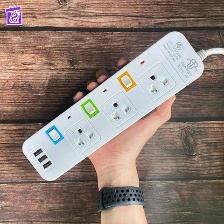three_eye_plug: (19, 25, 208, 186)
